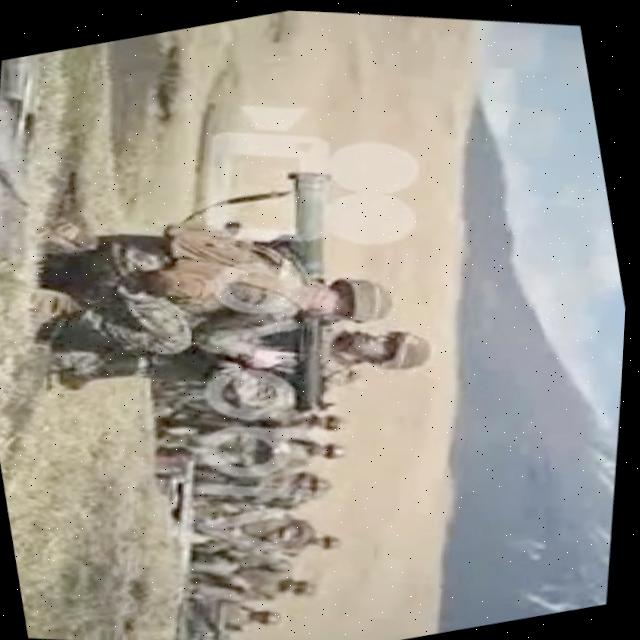rocket: (228, 155, 396, 421)
